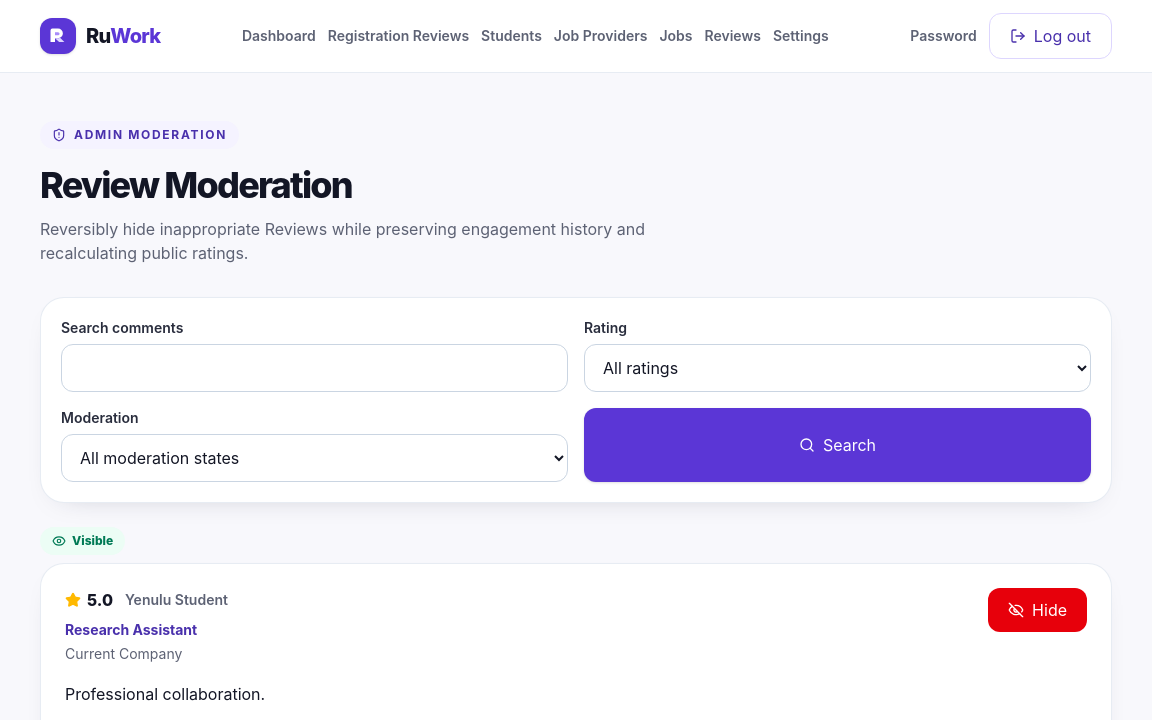
Test case: Phase 9 Admin workspace › moderates Reviews reversibly with context and feedback
expect the text "Professional collaboration." is shown: met, box [65,680,265,708]
Click the button "Hide". click: click(1038, 610)
box: [988,588,1087,632]
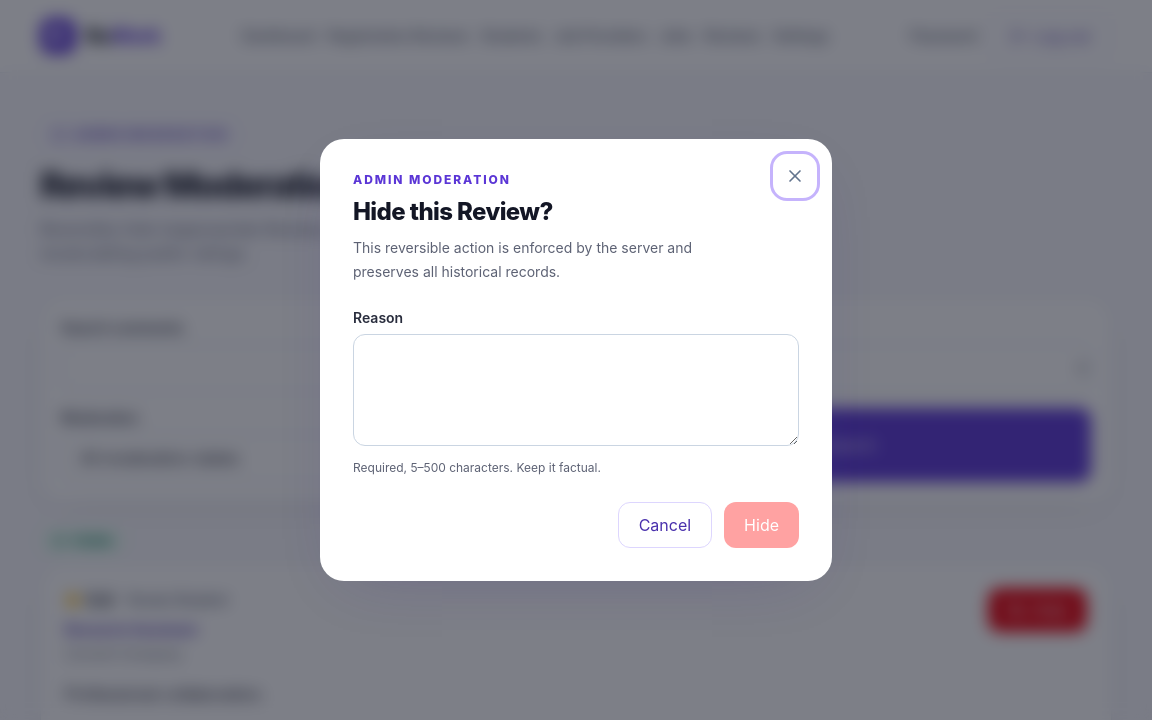
Type "Abusive text" into the text box labelled "Reason". click: (576, 390)
box: [353,334,799,446]
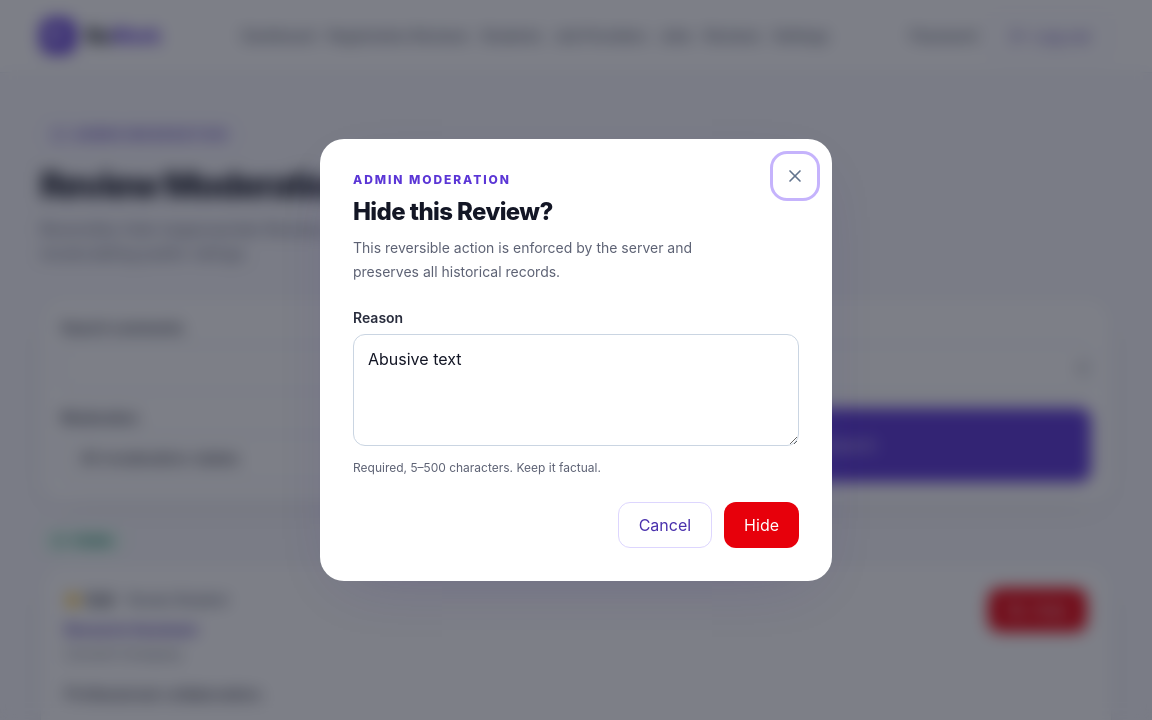
Click the button "Hide". click: click(762, 525)
box: [724,502,799,548]
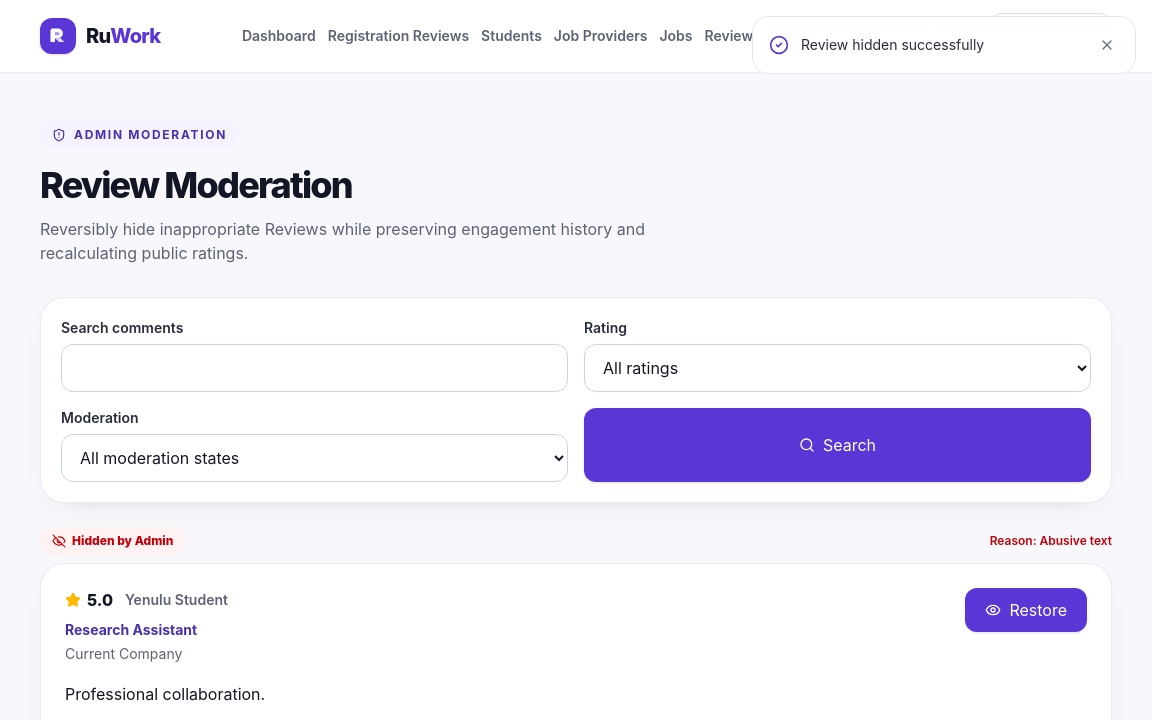
expect the text "Review hidden successfully" is shown: met, box [801,36,984,53]
